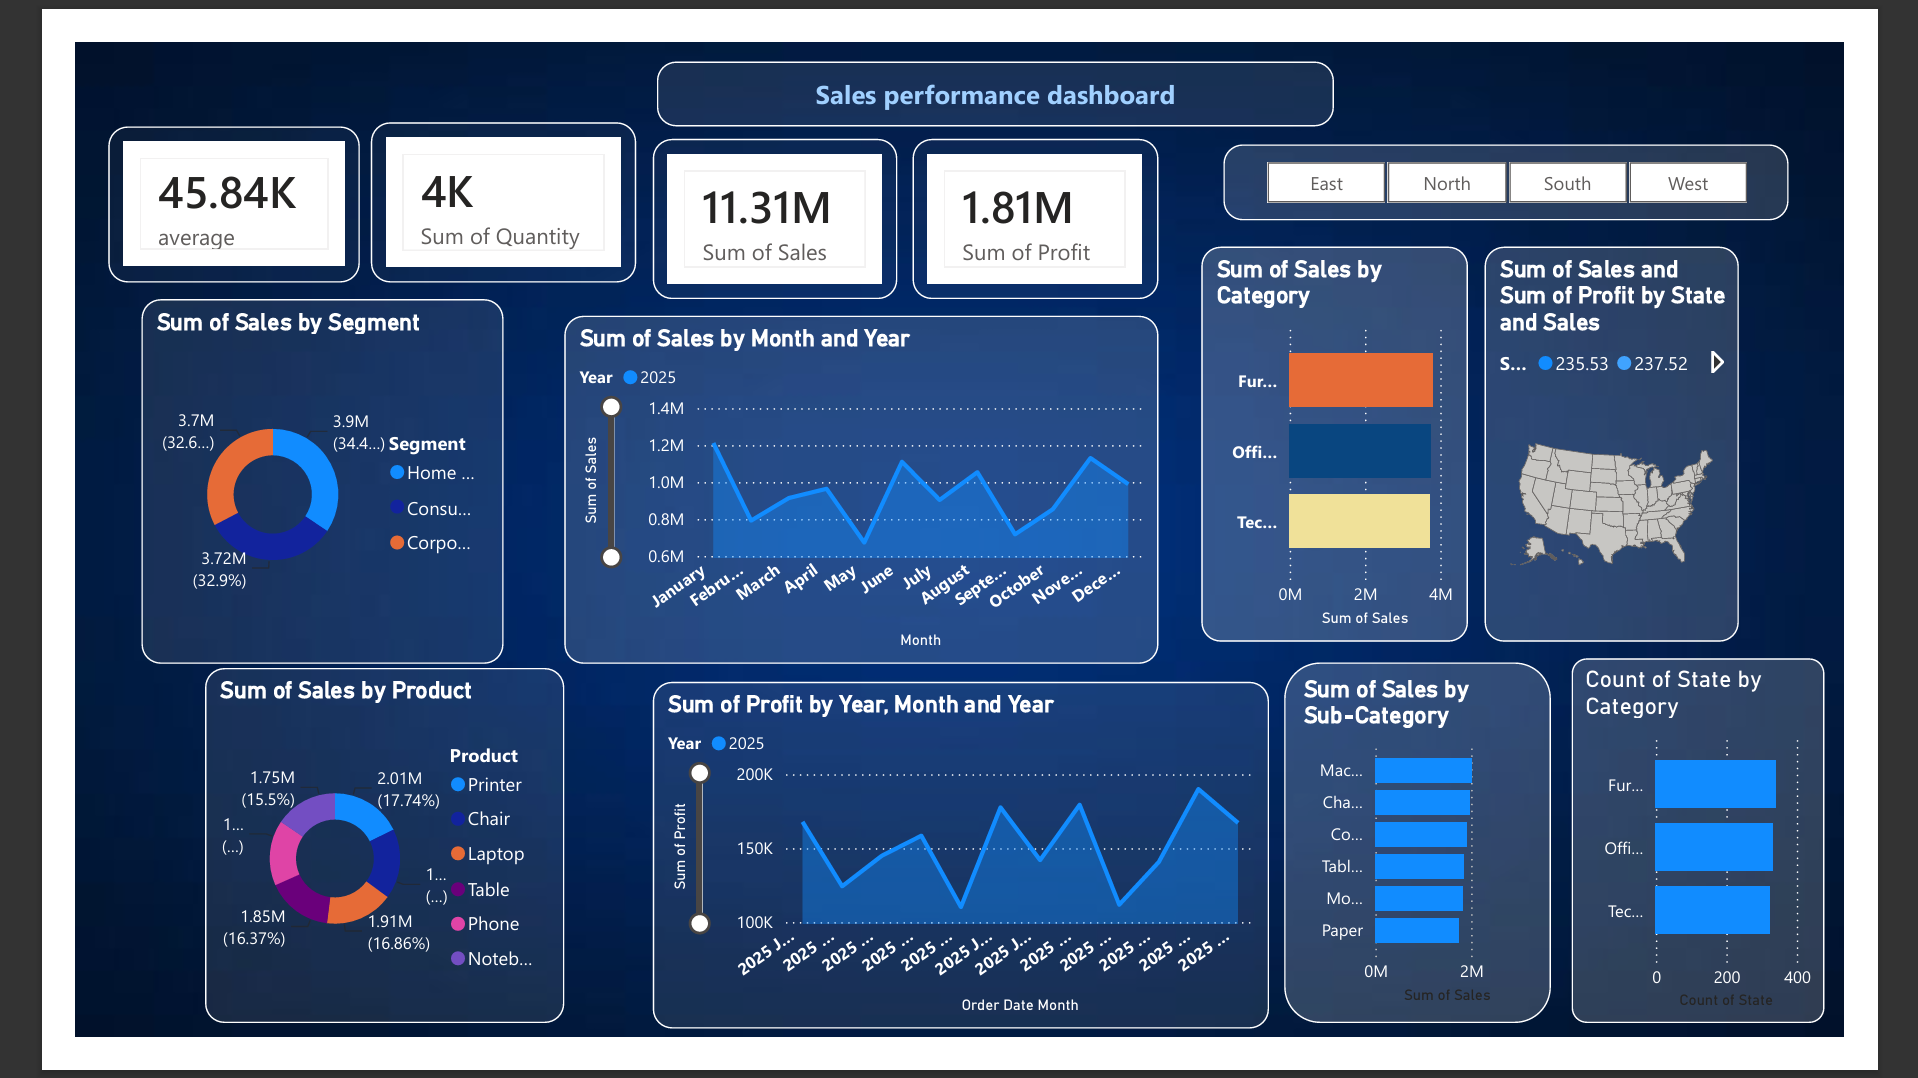

This screenshot's page, from the dashboard's own definition file:
{"tool":"powerbi","page":{"name":"Page 1","canvas":[1280,720],"ordinal":0},"visuals":[{"type":"clusteredBarChart","fields":{"Category":["SalesData.Category"],"Y":["Sum(SalesData.Sales)"]},"box":[815,147.5,192.5,286.2],"z":0},{"type":"clusteredBarChart","fields":{"Y":["Sum(SalesData.Sales)"],"Category":["SalesData.Sub-Category"]},"box":[875,448.8,192.5,261.2],"z":1000},{"type":"clusteredBarChart","fields":{"Y":["CountNonNull(SalesData.State)"],"Category":["SalesData.Category"]},"box":[1082.5,446.2,183.8,263.8],"z":2000},{"type":"areaChart","fields":{"Y":["Sum(SalesData.Sales)"],"Category":["SalesData.Order Date.Variation.Date Hierarchy.Month","SalesData.Order Date.Variation.Date Hierarchy.Day"],"Series":["SalesData.Order Date.Variation.Date Hierarchy.Year"]},"box":[353.8,197.5,430,252.5],"z":3000},{"type":"areaChart","fields":{"Series":["SalesData.Order Date.Variation.Date Hierarchy.Year"],"Category":["SalesData.Order Date.Variation.Date Hierarchy.Year","SalesData.Order Date.Variation.Date Hierarchy.Month"],"Y":["Sum(SalesData.Profit)"]},"box":[417.5,462.5,446.2,251.2],"z":4000},{"type":"shapeMap","fields":{"Value":["Sum(SalesData.Sales)"],"Category":["SalesData.State"],"Series":["SalesData.Sales"]},"box":[1020,147.5,183.8,286.2],"z":5000},{"type":"donutChart","fields":{"Y":["Sum(SalesData.Sales)"],"Category":["SalesData.Segment"]},"box":[47.5,186.2,262.5,263.8],"z":6000},{"type":"donutChart","fields":{"Y":["Sum(SalesData.Sales)"],"Category":["SalesData.Product"]},"box":[93.8,452.5,260,257.5],"z":7000},{"type":"slicer","fields":{"Values":["SalesData.Region"]},"box":[831.2,73.8,408.8,55],"z":8000},{"type":"textbox","box":[421.2,13.8,490,47.5],"z":9000},{"type":"cardVisual","fields":{"Data":["Sum(SalesData.Sales)"]},"box":[417.5,70,177.5,116.2],"z":10000},{"type":"cardVisual","fields":{"Data":["Sum(SalesData.Profit)"]},"box":[606.2,70,177.5,116.2],"z":11000},{"type":"cardVisual","fields":{"Data":["Sum(SalesData.Quantity)"]},"box":[213.8,57.5,192.5,116.2],"z":12000},{"type":"cardVisual","fields":{"Data":["SalesData.Measure"]},"box":[23.8,61.2,182.5,112.5],"z":13000}]}

Visuals, with their boxes in screenshot pixels (x1, y1, x2, y2), scaled from the page's 1280x720 canvas onto the 1918x1078 screenshot:
clusteredBarChart - SalesData.Category x Sum(SalesData.Sales): [1221,221,1510,649]
clusteredBarChart - Sum(SalesData.Sales) x SalesData.Sub-Category: [1311,672,1600,1063]
clusteredBarChart - CountNonNull(SalesData.State) x SalesData.Category: [1622,668,1897,1063]
areaChart - Sum(SalesData.Sales) x SalesData.Order Date.Variation.Date Hierarchy.Month: [530,296,1174,674]
areaChart - SalesData.Order Date.Variation.Date Hierarchy.Year x SalesData.Order Date.Variation.Date Hierarchy.Year: [626,692,1294,1069]
shapeMap - Sum(SalesData.Sales) x SalesData.State: [1528,221,1804,649]
donutChart - Sum(SalesData.Sales) x SalesData.Segment: [71,279,465,674]
donutChart - Sum(SalesData.Sales) x SalesData.Product: [141,677,530,1063]
slicer - SalesData.Region: [1246,110,1858,193]
textbox: [631,21,1365,92]
cardVisual - Sum(SalesData.Sales): [626,105,892,279]
cardVisual - Sum(SalesData.Profit): [908,105,1174,279]
cardVisual - Sum(SalesData.Quantity): [320,86,609,260]
cardVisual - SalesData.Measure: [36,92,309,260]
